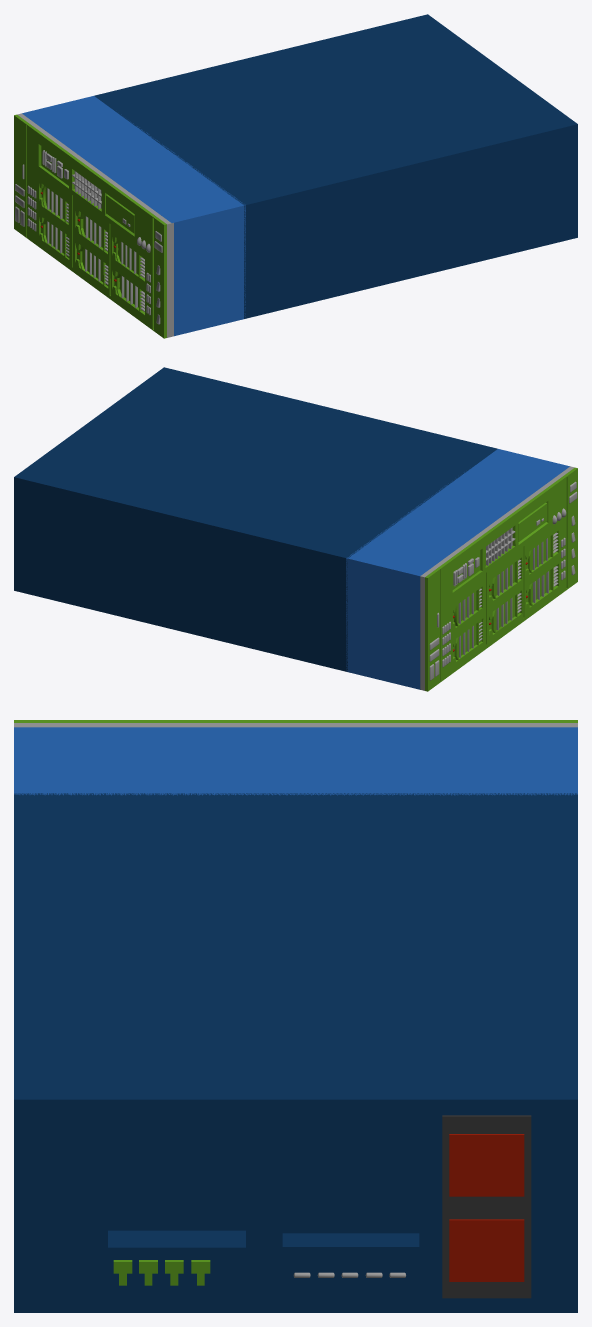
Rendered from router2.glb.
The picture shows the model from 3 angles, top to bottom: view 1: azimuth 30°, elevation 25°; view 2: azimuth 150°, elevation 25°; view 3: azimuth 270°, elevation 25°; orthographic projection. The views are drawn at different scales.
Visible parts, largest first — view 1: node_id651, node_id656, node_id19, node_id646; view 2: node_id651, node_id656, node_id19, node_id646; view 3: node_id651, node_id656, node_id672, node_id662, node_id667, node_id646, node_id19.
Part boxes in pixels (bbox=[...]): node_id651: bbox=[94, 14, 577, 318]; node_id656: bbox=[22, 96, 245, 336]; node_id19: bbox=[14, 114, 166, 338]; node_id646: bbox=[17, 113, 173, 337]; node_id651: bbox=[14, 367, 497, 671]; node_id656: bbox=[346, 449, 569, 689]; node_id19: bbox=[425, 467, 577, 691]; node_id646: bbox=[420, 466, 574, 690]; node_id651: bbox=[14, 793, 577, 1312]; node_id656: bbox=[14, 727, 577, 795]; node_id672: bbox=[442, 1115, 531, 1298]; node_id662: bbox=[449, 1219, 524, 1281]; node_id667: bbox=[449, 1134, 524, 1196]; node_id646: bbox=[14, 723, 577, 727]; node_id19: bbox=[14, 720, 577, 722].
Bounding box in the file's own units: 2.05 × 0.5312 × 1.27.
145 materials, 145 textured.
